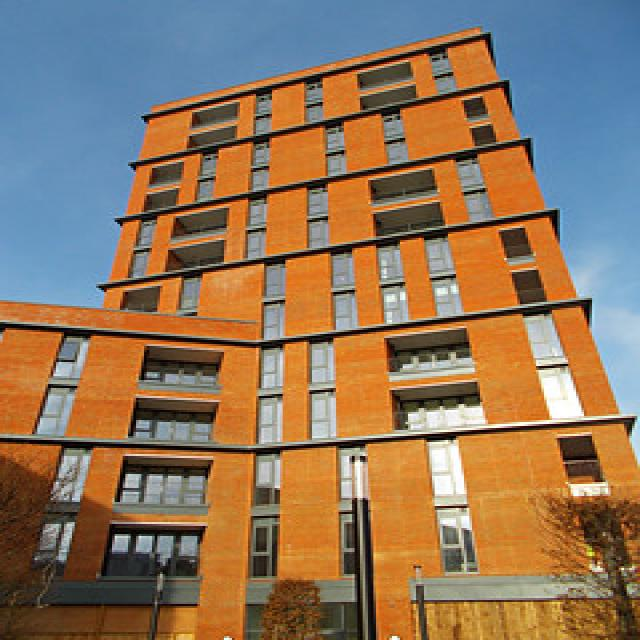Normal_building: (80, 19, 640, 637)
